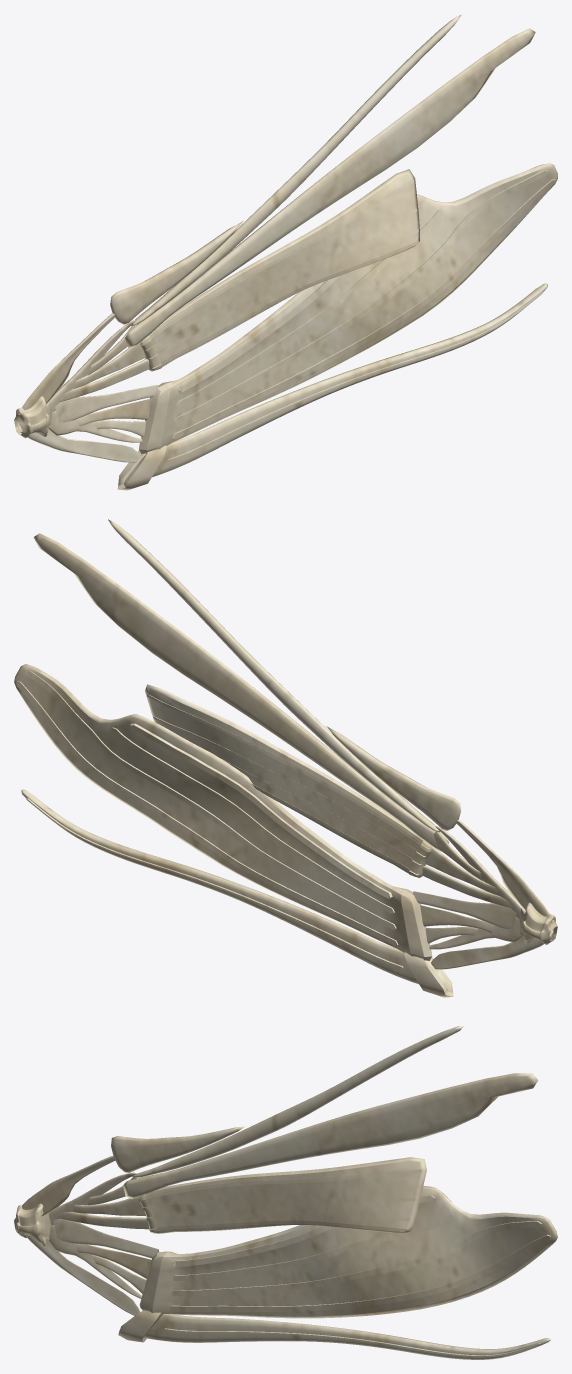
File: fish_ekor.glb
The picture shows the model from 3 angles, top to bottom: view 1: azimuth 30°, elevation 25°; view 2: azimuth 150°, elevation 25°; view 3: azimuth 330°, elevation 25°; orthographic projection.
Visible parts, largest first — view 1: polySurface219.002; view 2: polySurface219.002; view 3: polySurface219.002.
Boxes of the visible parts, <box> form: polySurface219.002: <box>14,14,557,490</box>; polySurface219.002: <box>14,519,557,997</box>; polySurface219.002: <box>14,1026,557,1359</box>.
Size of the model in its own units: 0.1096 by 0.0765 by 0.00748.
Materials: 1 (1 with a texture image).
